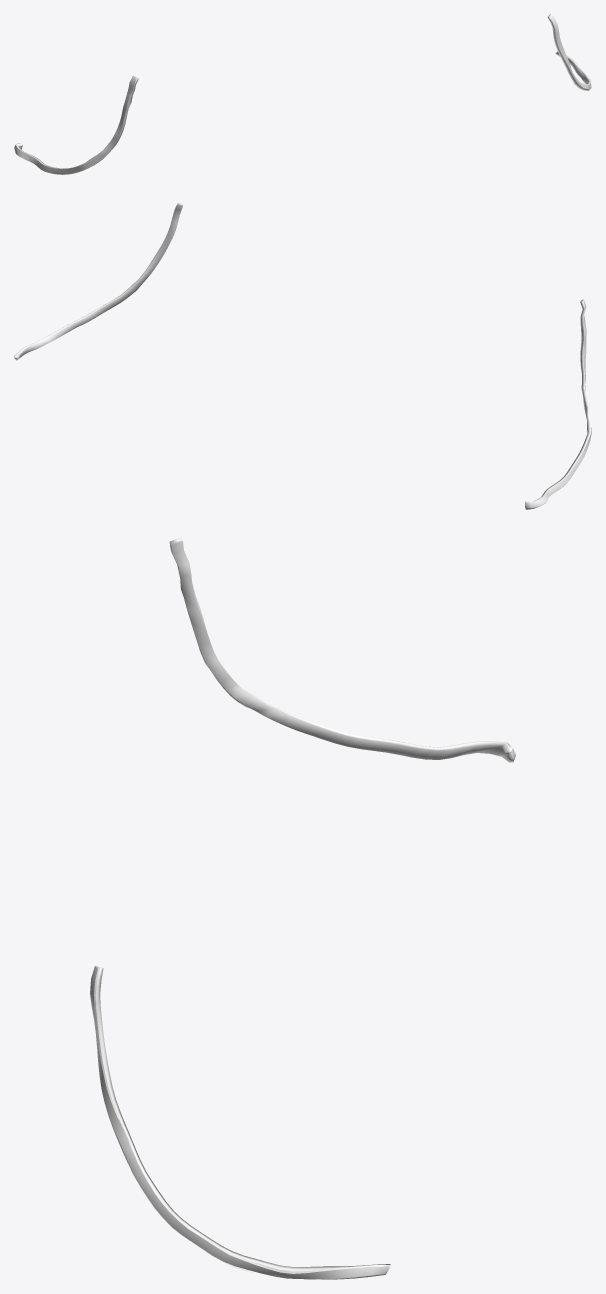
The model's file is Pants_Pocket_TOP.glb.
The picture shows the model from 3 angles, top to bottom: view 1: azimuth 30°, elevation 25°; view 2: azimuth 150°, elevation 25°; view 3: azimuth 270°, elevation 25°; orthographic projection. The views are drawn at different scales.
Parts seen in each view (by area): view 1: Pants_Pocket_TOP.001, Pants_Rope_Pocket_TOP.001; view 2: Pants_Pocket_TOP.001; view 3: Pants_Pocket_TOP.001, Pants_Rope_Pocket_TOP.001.
Boxes of the visible parts, x1=… form: Pants_Pocket_TOP.001: x1=14, y1=14, x2=591, y2=174; Pants_Rope_Pocket_TOP.001: x1=16, y1=14, x2=591, y2=174; Pants_Pocket_TOP.001: x1=14, y1=203, x2=591, y2=509; Pants_Pocket_TOP.001: x1=90, y1=538, x2=515, y2=1279; Pants_Rope_Pocket_TOP.001: x1=93, y1=539, x2=513, y2=1279.
Bounding box in the file's own units: 0.6276 × 0.1583 × 0.2219.
Materials: 2 (2 with a texture image).
